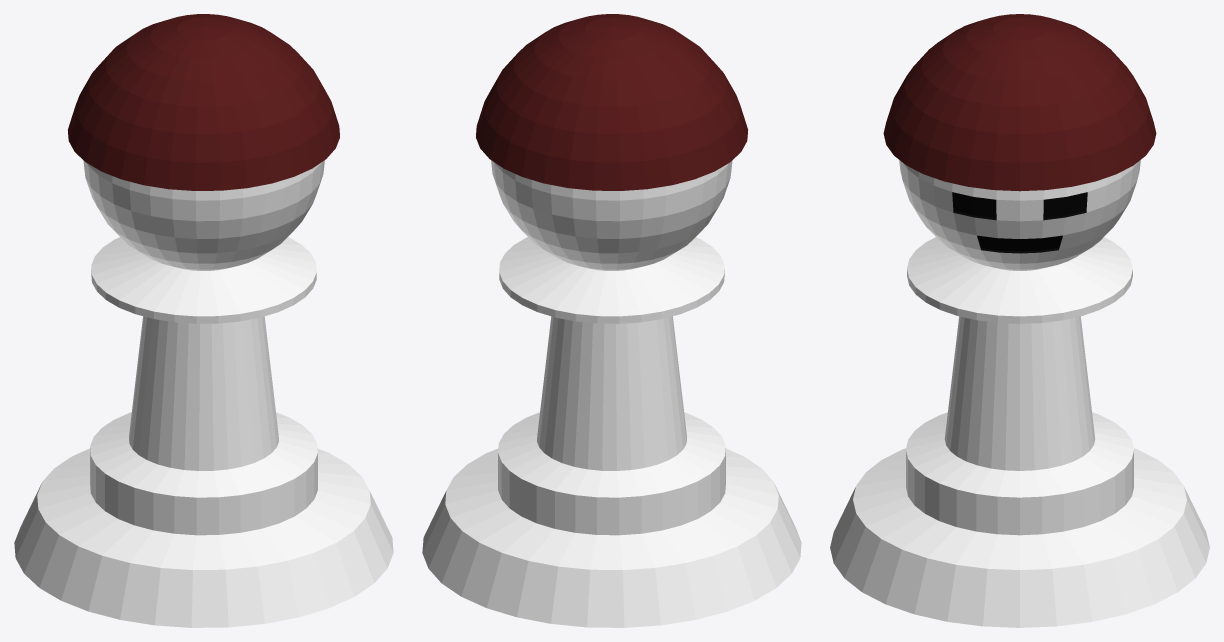
The model's file is enemysoldier.obj.
3 views of the same model, side by side, from view 1: azimuth 30°, elevation 25°; view 2: azimuth 150°, elevation 25°; view 3: azimuth 270°, elevation 25° (orthographic).
Parts seen in each view (by area): view 1: Sphere_Sphere.001; view 2: Sphere_Sphere.001; view 3: Sphere_Sphere.001.
Boxes of the visible parts, bbox=[...] form: Sphere_Sphere.001: bbox=[14, 14, 393, 627]; Sphere_Sphere.001: bbox=[422, 14, 801, 627]; Sphere_Sphere.001: bbox=[830, 14, 1209, 627].
Bounding box in the file's own units: 3.11 × 4.73 × 3.11.
